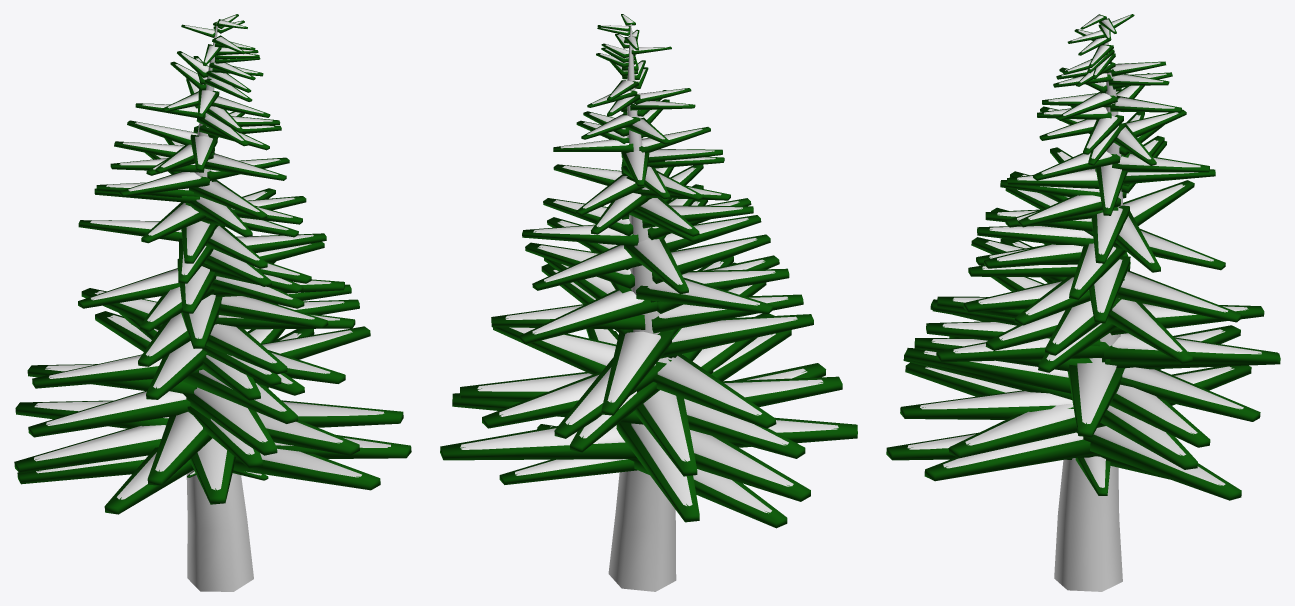
The model's file is tree.fbx.
3 views of the same model, side by side, from view 1: azimuth 30°, elevation 25°; view 2: azimuth 150°, elevation 25°; view 3: azimuth 270°, elevation 25° (orthographic). The views are drawn at different scales.
Visible parts, largest first — view 1: BezierCurve.076, BezierCurve.064, BezierCurve.089, BezierCurve.110, BezierCurve.099, BezierCurve.125, BezierCurve, BezierCurve.141, BezierCurve.151, BezierCurve.165, BezierCurve.180, BezierCurve.210 (+8 smaller); view 2: BezierCurve.099, BezierCurve.064, BezierCurve.089, BezierCurve.076, BezierCurve.125, BezierCurve, BezierCurve.110, BezierCurve.151, BezierCurve.141, BezierCurve.165, BezierCurve.210, BezierCurve.188 (+8 smaller); view 3: BezierCurve.076, BezierCurve.125, BezierCurve.099, BezierCurve.064, BezierCurve, BezierCurve.110, BezierCurve.151, BezierCurve.089, BezierCurve.141, BezierCurve.165, BezierCurve.188, BezierCurve.173 (+9 smaller).
Part boxes in pixels (x1,y1,x2,y2): BezierCurve.076: (15,329,403,504); BezierCurve.064: (14,386,411,514); BezierCurve.089: (27,329,285,468); BezierCurve.110: (81,288,345,400); BezierCurve.099: (32,311,370,423); BezierCurve.125: (138,261,359,366); BezierCurve: (186,22,253,591); BezierCurve.141: (78,241,344,331); BezierCurve.151: (177,233,326,313); BezierCurve.165: (78,188,275,268); BezierCurve.180: (94,179,292,237); BezierCurve.210: (127,111,281,175); BezierCurve.099: (482,327,776,452); BezierCurve.064: (440,331,857,528); BezierCurve.089: (460,313,805,476); BezierCurve.076: (452,329,842,522); BezierCurve.125: (491,255,803,344); BezierCurve: (608,24,676,591); BezierCurve.110: (565,256,813,424); BezierCurve.151: (532,199,770,290); BezierCurve.141: (525,242,789,313); BezierCurve.165: (522,184,751,294); BezierCurve.210: (553,120,724,186); BezierCurve.188: (553,164,730,234); BezierCurve.076: (900,336,1251,469); BezierCurve.125: (963,237,1241,372); BezierCurve.099: (914,337,1280,437); BezierCurve.064: (886,426,1241,500); BezierCurve: (1054,42,1122,591); BezierCurve.110: (926,277,1264,362); BezierCurve.151: (976,188,1225,299); BezierCurve.089: (903,325,1240,447); BezierCurve.141: (968,243,1130,325); BezierCurve.165: (985,171,1194,272); BezierCurve.188: (1017,153,1215,215); BezierCurve.173: (1005,147,1129,263).
Bounding box in the file's own units: 158 × 253 × 159.
